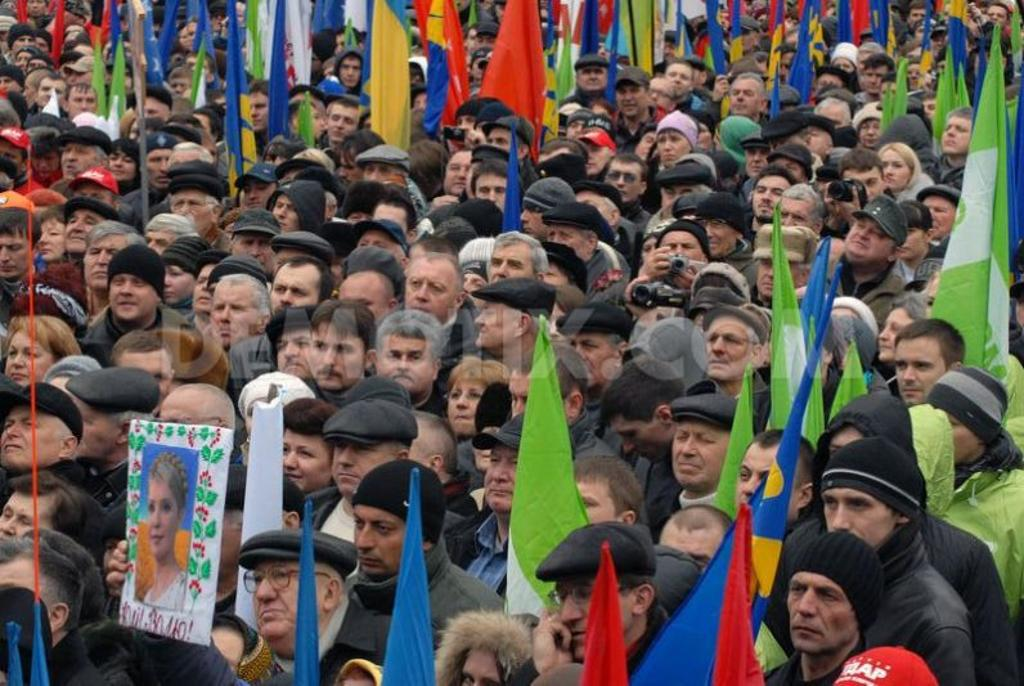face: (553, 575, 632, 660), (787, 572, 859, 650), (254, 559, 324, 639), (736, 447, 800, 530), (659, 529, 727, 604), (354, 503, 417, 576), (823, 491, 896, 553), (671, 419, 735, 489), (1, 565, 51, 646), (510, 374, 566, 445), (560, 483, 614, 554), (1, 493, 55, 561), (310, 323, 365, 389), (333, 436, 395, 494), (486, 441, 537, 510), (896, 339, 949, 405), (280, 431, 333, 495), (158, 405, 210, 470), (5, 404, 59, 466), (66, 395, 118, 459), (118, 352, 171, 413), (379, 337, 434, 393), (611, 413, 668, 466), (5, 332, 54, 393), (272, 264, 320, 326), (827, 435, 879, 492), (406, 261, 456, 320), (929, 406, 979, 465), (565, 331, 615, 389), (211, 285, 255, 347), (707, 323, 753, 378), (449, 381, 492, 439), (86, 236, 131, 288), (490, 244, 532, 299), (340, 288, 387, 337), (277, 330, 324, 379), (105, 539, 151, 589), (659, 236, 705, 285), (148, 482, 177, 558), (926, 280, 965, 334), (476, 298, 517, 349), (356, 229, 398, 278), (111, 274, 156, 319), (879, 309, 917, 361), (757, 253, 799, 299), (276, 249, 318, 293), (846, 216, 890, 257), (235, 235, 274, 279), (173, 191, 211, 236), (195, 265, 232, 311), (476, 175, 512, 222), (66, 212, 107, 253), (547, 223, 587, 264), (573, 192, 610, 235), (920, 197, 958, 238), (461, 653, 506, 686), (843, 170, 879, 211), (779, 197, 812, 241), (699, 219, 737, 257), (159, 266, 196, 305), (339, 149, 371, 194), (1, 229, 31, 277), (605, 162, 640, 203), (662, 184, 699, 222), (37, 220, 70, 262), (272, 193, 304, 236), (74, 187, 112, 223), (446, 153, 477, 197), (754, 179, 788, 218), (146, 148, 178, 189), (62, 144, 98, 180), (249, 93, 281, 132), (890, 222, 925, 257), (145, 231, 178, 268), (578, 137, 608, 177), (364, 163, 399, 195), (457, 273, 489, 308), (522, 209, 553, 245), (533, 262, 564, 298), (880, 150, 908, 189), (487, 128, 517, 164), (244, 183, 277, 215), (658, 133, 688, 168), (942, 118, 971, 154), (330, 107, 359, 142), (348, 211, 379, 243), (731, 81, 759, 116), (109, 148, 138, 181), (283, 172, 313, 203), (645, 78, 670, 115), (137, 99, 165, 132), (642, 240, 672, 270), (33, 149, 61, 181), (70, 88, 97, 121), (773, 158, 803, 187), (746, 147, 774, 178), (616, 85, 644, 116), (682, 123, 709, 155), (774, 55, 800, 88), (636, 132, 664, 162), (1, 142, 23, 180), (818, 106, 843, 139), (666, 65, 691, 98), (769, 136, 798, 163), (40, 80, 66, 110), (860, 120, 886, 149), (768, 106, 796, 132), (458, 115, 484, 143), (800, 126, 825, 155), (866, 63, 890, 93), (24, 80, 46, 112), (190, 115, 211, 148), (568, 120, 592, 148), (305, 108, 325, 141), (916, 102, 941, 128), (579, 68, 608, 90), (340, 58, 362, 87), (68, 69, 93, 94), (818, 76, 842, 102), (910, 5, 931, 34), (186, 58, 209, 84), (211, 98, 234, 123), (859, 52, 879, 80), (730, 28, 753, 52), (833, 59, 855, 84), (109, 67, 131, 92), (187, 25, 208, 51), (987, 7, 1009, 31), (65, 26, 87, 50), (750, 52, 769, 79), (944, 3, 962, 31), (335, 36, 355, 61), (906, 66, 927, 89), (881, 83, 902, 106), (415, 95, 435, 119), (683, 66, 701, 92), (13, 37, 34, 59), (324, 69, 344, 92), (171, 79, 191, 102), (1, 78, 21, 100), (594, 43, 613, 65), (30, 38, 49, 60), (916, 28, 936, 48), (477, 35, 498, 54), (16, 54, 34, 75), (659, 42, 676, 64), (306, 50, 323, 72), (468, 29, 484, 52), (179, 29, 194, 51), (1016, 291, 1024, 332), (29, 61, 46, 80), (937, 62, 953, 82), (757, 14, 773, 34), (28, 1, 46, 18), (934, 33, 950, 52), (473, 59, 488, 79), (717, 13, 731, 33), (404, 74, 419, 92), (208, 14, 223, 31), (118, 18, 132, 32), (784, 20, 798, 33), (1, 31, 9, 44), (28, 373, 29, 374)
